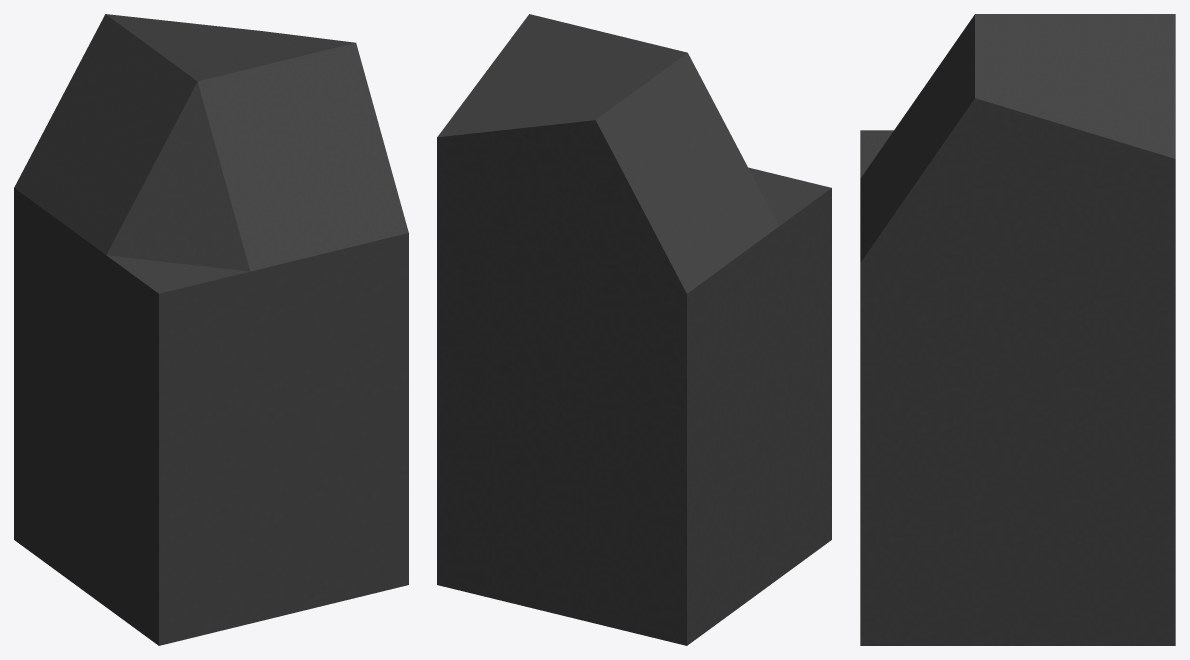
File: Balcony_Cover_Corner.fbx
3 views of the same model, side by side, from view 1: azimuth 30°, elevation 25°; view 2: azimuth 150°, elevation 25°; view 3: azimuth 270°, elevation 25° (orthographic). The views are drawn at different scales.
Visible parts, largest first — view 1: Room_Balcony_Cover_Corner; view 2: Room_Balcony_Cover_Corner; view 3: Room_Balcony_Cover_Corner.
Part boxes in pixels (box(x1,y1,x2,y2)): Room_Balcony_Cover_Corner: box(14, 14, 408, 645); Room_Balcony_Cover_Corner: box(437, 14, 831, 645); Room_Balcony_Cover_Corner: box(860, 14, 1175, 645).
Size of the model in its own units: 18.69 by 36 by 18.77.
1 material, 1 textured.
